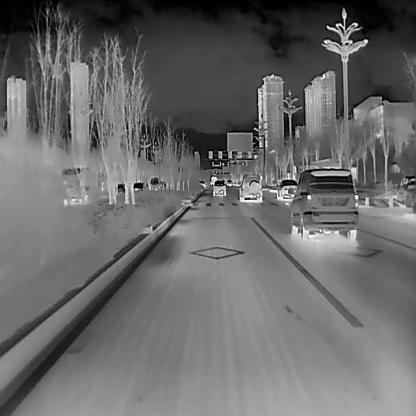car: (290, 168, 357, 241), (60, 166, 89, 205), (238, 173, 262, 202), (396, 175, 415, 207), (275, 178, 297, 199), (211, 180, 226, 196), (131, 181, 149, 192), (150, 176, 159, 190), (115, 184, 125, 193)
